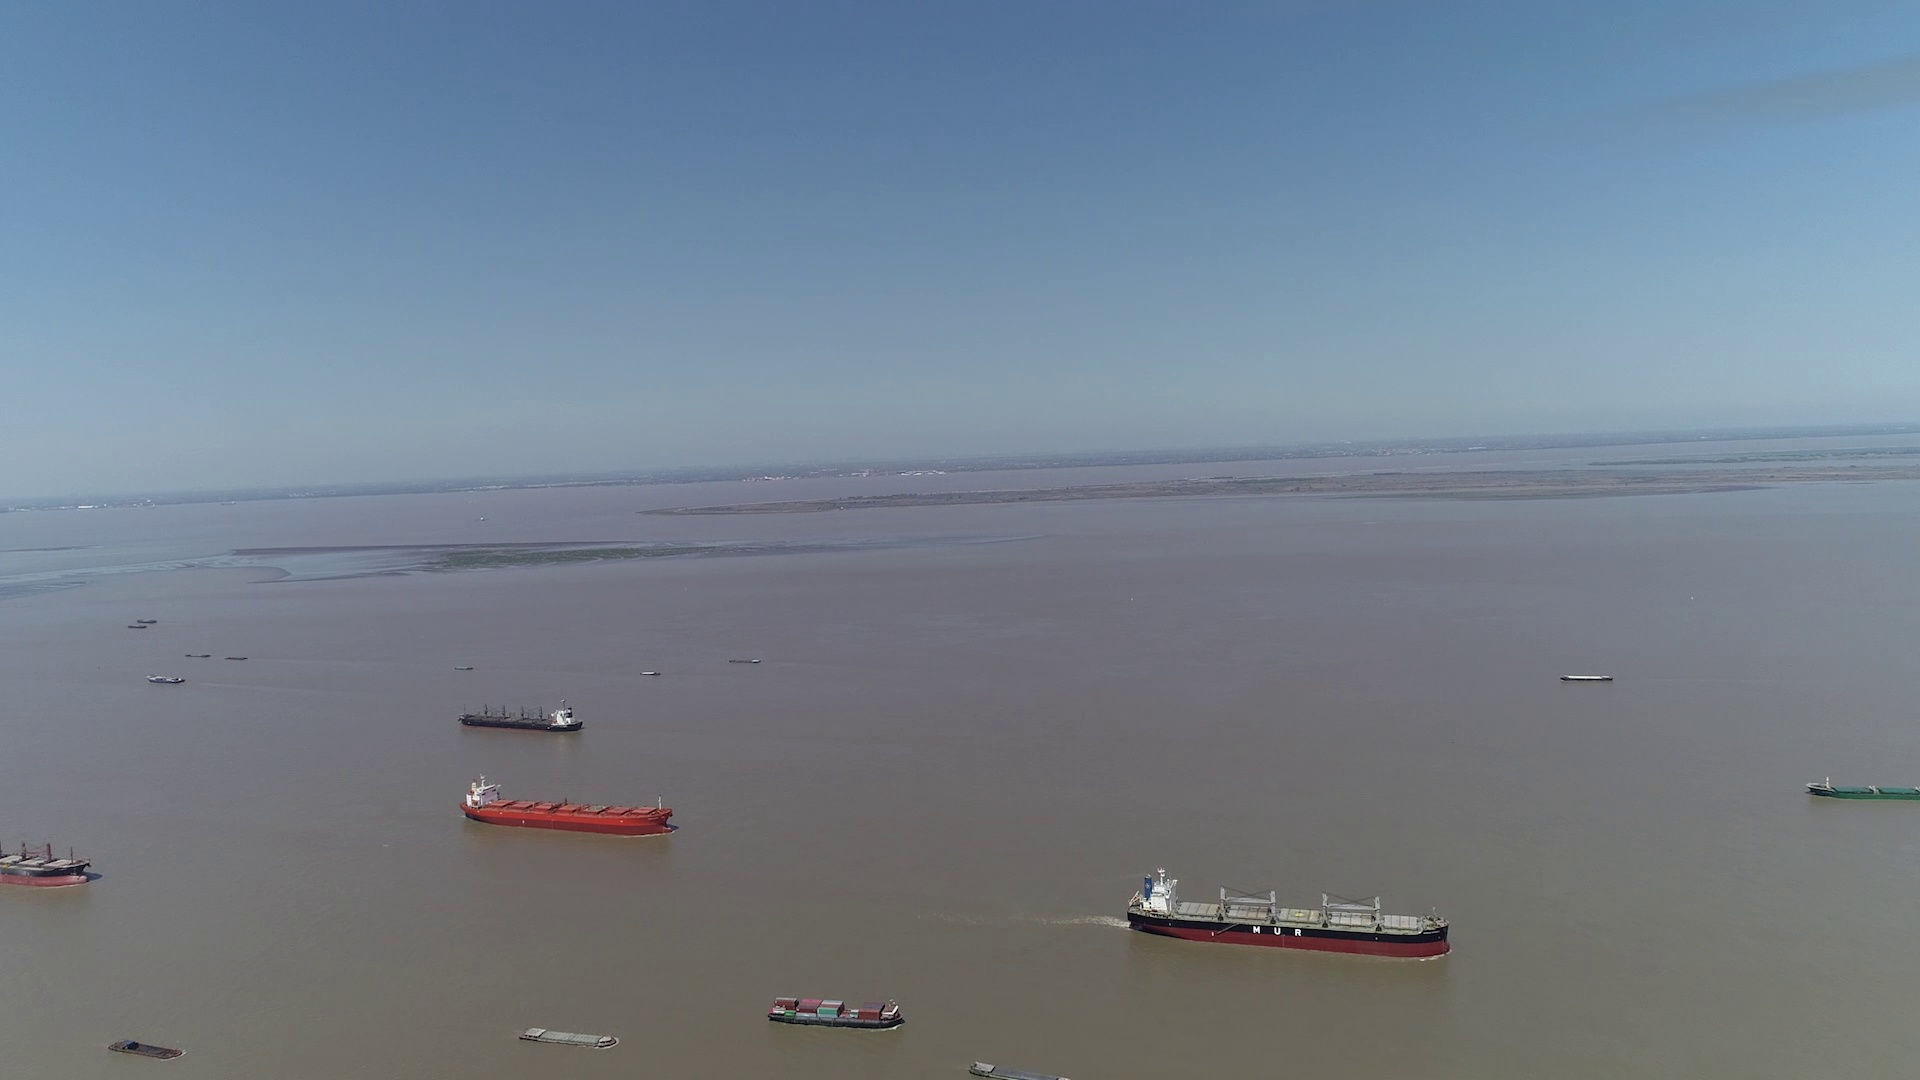ship: (1127, 868, 1449, 957), (460, 771, 674, 835), (0, 833, 96, 887), (766, 996, 905, 1031), (460, 702, 580, 733), (1807, 777, 1920, 800), (517, 1025, 617, 1048), (968, 1060, 1069, 1080), (107, 1039, 181, 1059), (1560, 674, 1614, 683), (146, 674, 183, 684)
